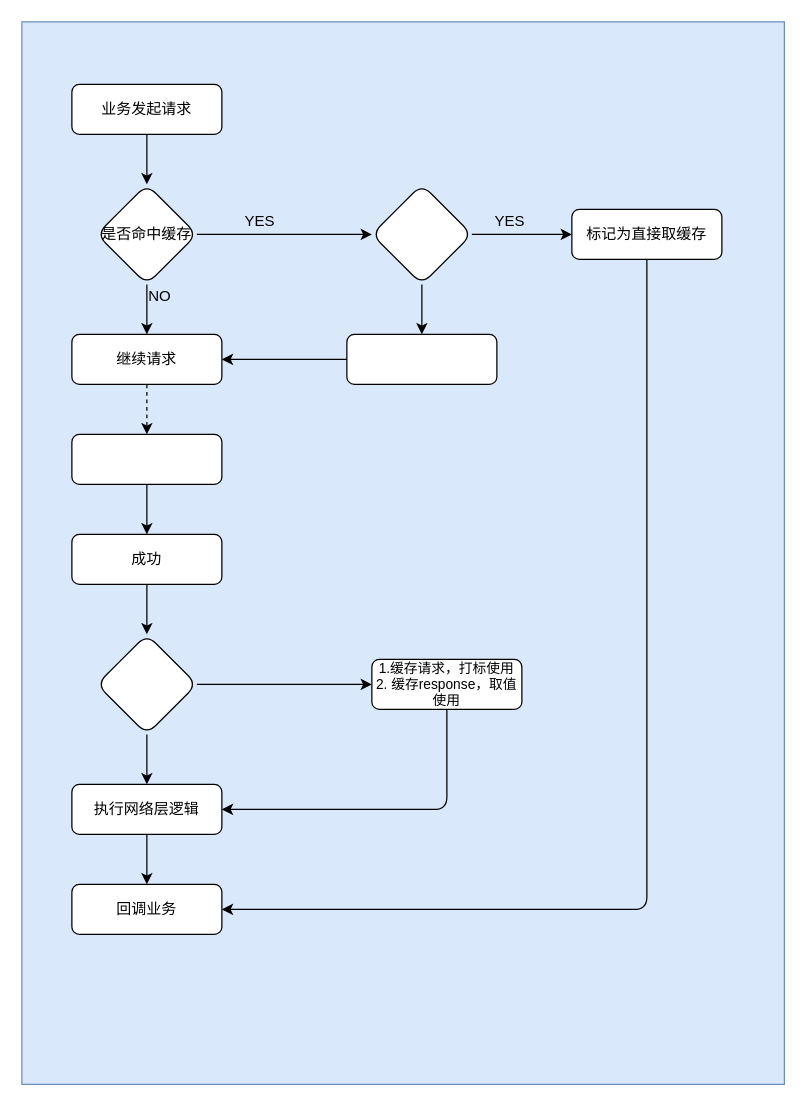
This 806x1106 diagram has some shape labels left out. Here are the shapes that lost their labels. From the top down, the centre of each, then its label:
At pixel 421 233: "是否有缓存 Response".
At pixel 421 358: "标记为可复用请求".
At pixel 146 458: "结束".
At pixel 146 683: "是否需要缓存".
